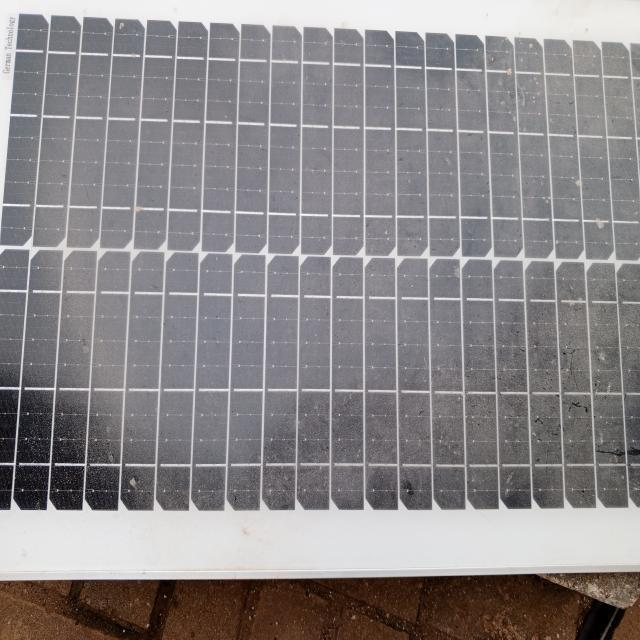Anomaly Solar Panel: (3, 0, 640, 556)
Surface Contaminant: (6, 1, 631, 532)
